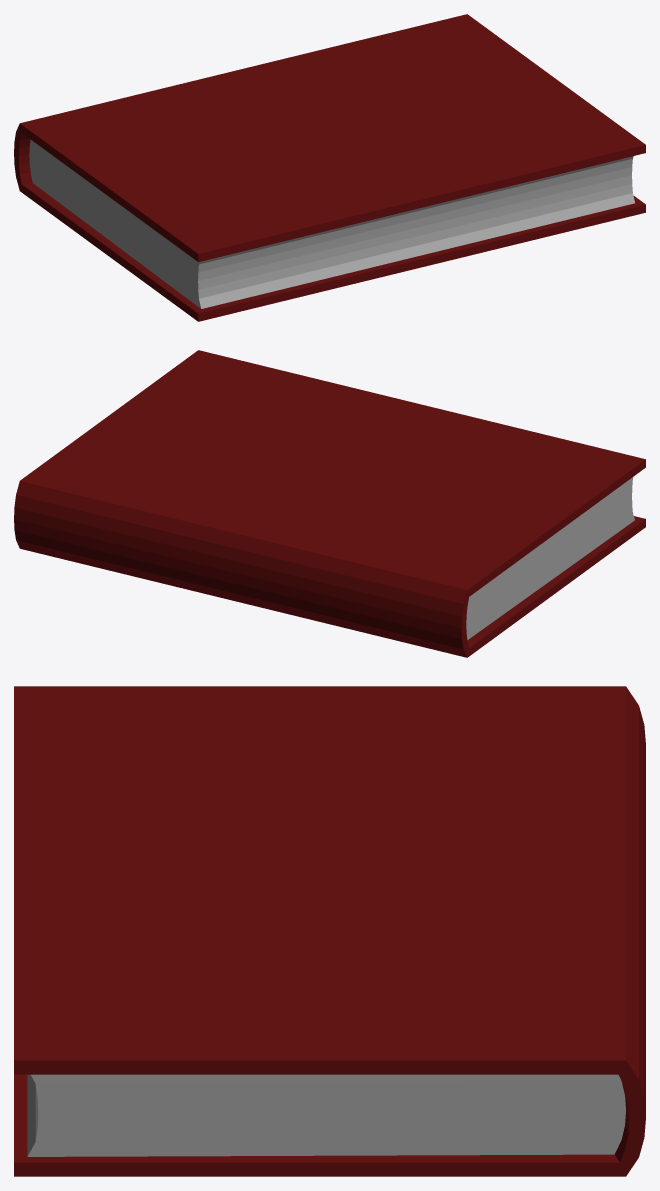
Rendered from Book2.fbx.
3 views of the same model, one above another, from view 1: azimuth 30°, elevation 25°; view 2: azimuth 150°, elevation 25°; view 3: azimuth 270°, elevation 25° (orthographic). The views are drawn at different scales.
Parts seen in each view (by area): view 1: Prop_Book_01; view 2: Prop_Book_01; view 3: Prop_Book_01.
Part boxes in pixels (x1,y1,x2,y2): Prop_Book_01: [14, 14, 645, 321]; Prop_Book_01: [14, 350, 645, 657]; Prop_Book_01: [14, 686, 645, 1176].
Size of the model in its own units: 32.39 by 4.69 by 23.12.
1 material, 1 textured.
